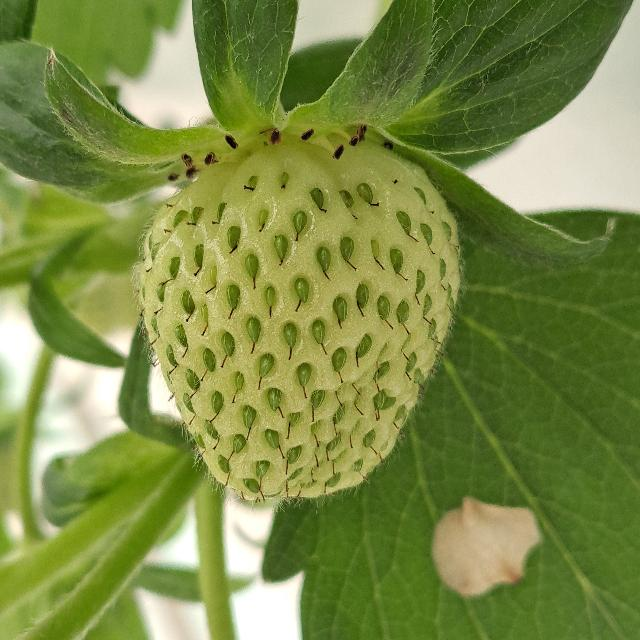Health_25: (140, 142, 460, 500)
